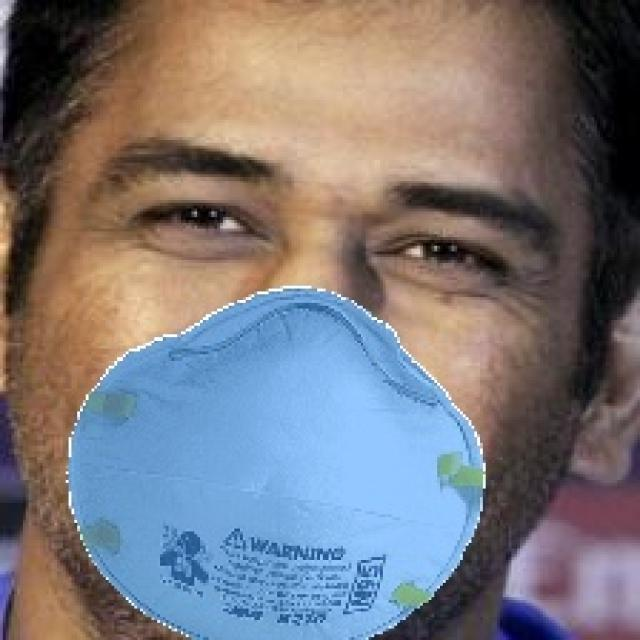mask: (25, 262, 554, 640)
